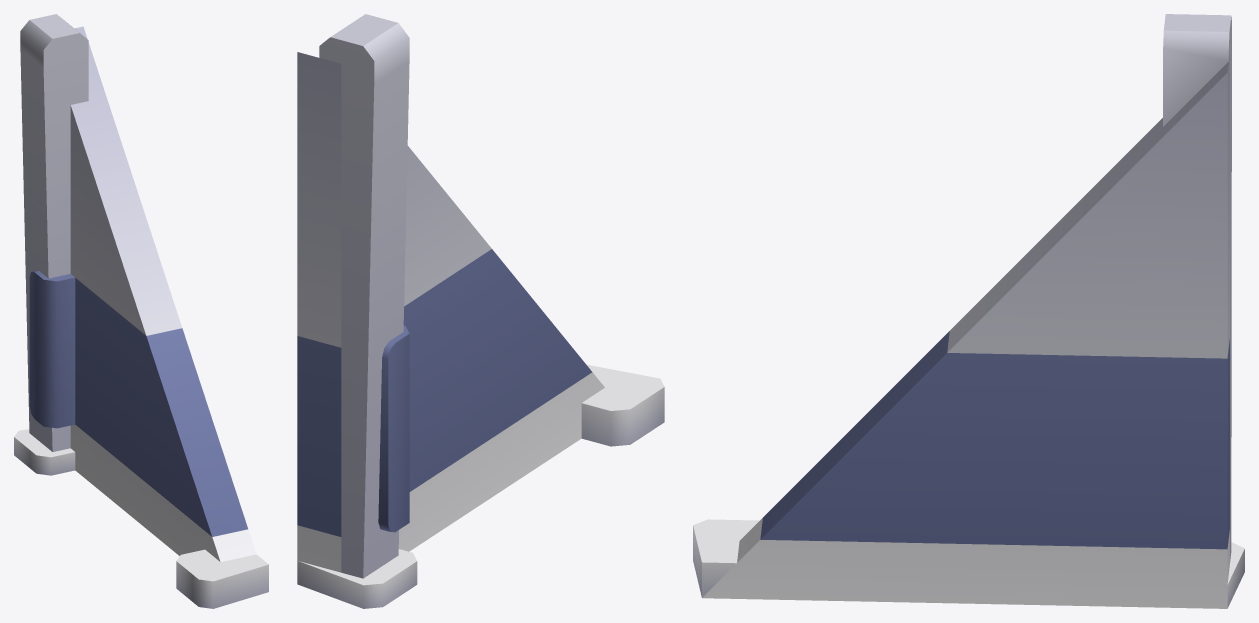
The model's file is template-wall-stairs_lev4.glb.
3 views of the same model, side by side, from view 1: azimuth 30°, elevation 25°; view 2: azimuth 150°, elevation 25°; view 3: azimuth 270°, elevation 25° (orthographic). The views are drawn at different scales.
Visible parts, largest first — view 1: template-wall-stairs_lev4; view 2: template-wall-stairs_lev4; view 3: template-wall-stairs_lev4.
Part boxes in pixels (left/top/right/bottom): template-wall-stairs_lev4: left=14, top=14, right=268, bottom=608; template-wall-stairs_lev4: left=297, top=14, right=664, bottom=608; template-wall-stairs_lev4: left=693, top=14, right=1244, bottom=608.
Bounding box in the file's own units: 2.9 × 14.1 × 12.59.
Materials: 1 (1 with a texture image).
